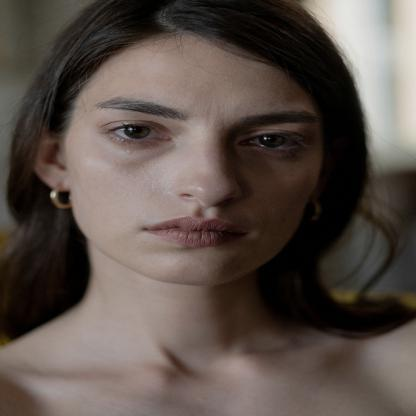Eye: (101, 110, 179, 152), (234, 123, 314, 162)
Mouth: (132, 212, 261, 254)
Nose: (167, 144, 251, 206)
